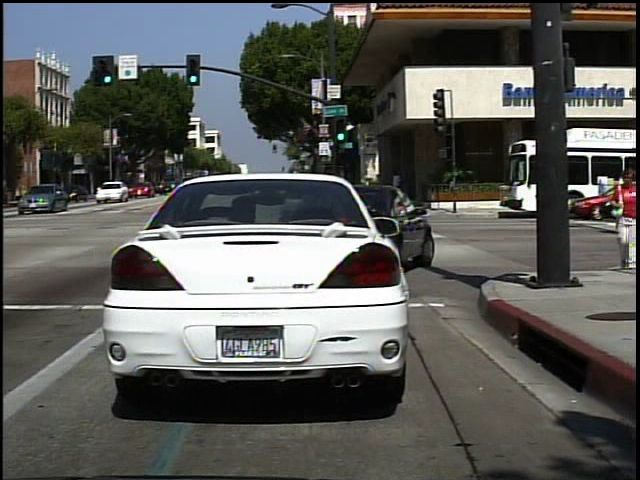person: (606, 165, 638, 272), (389, 168, 407, 207)
